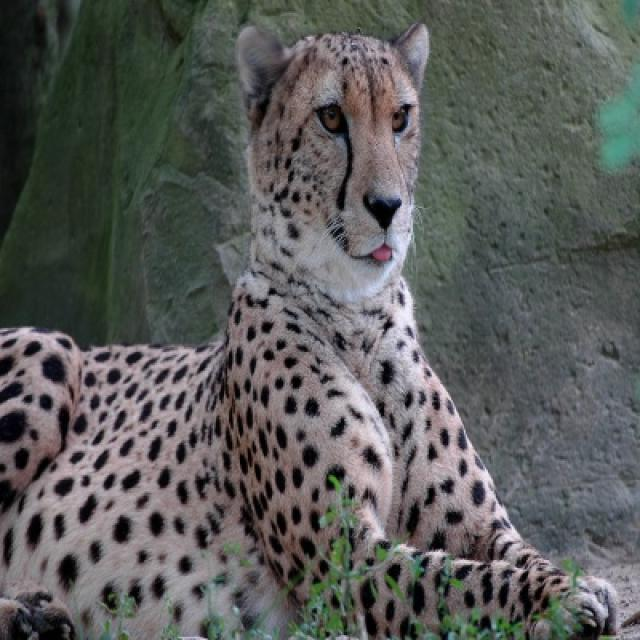Cheetah: (0, 22, 611, 638)
